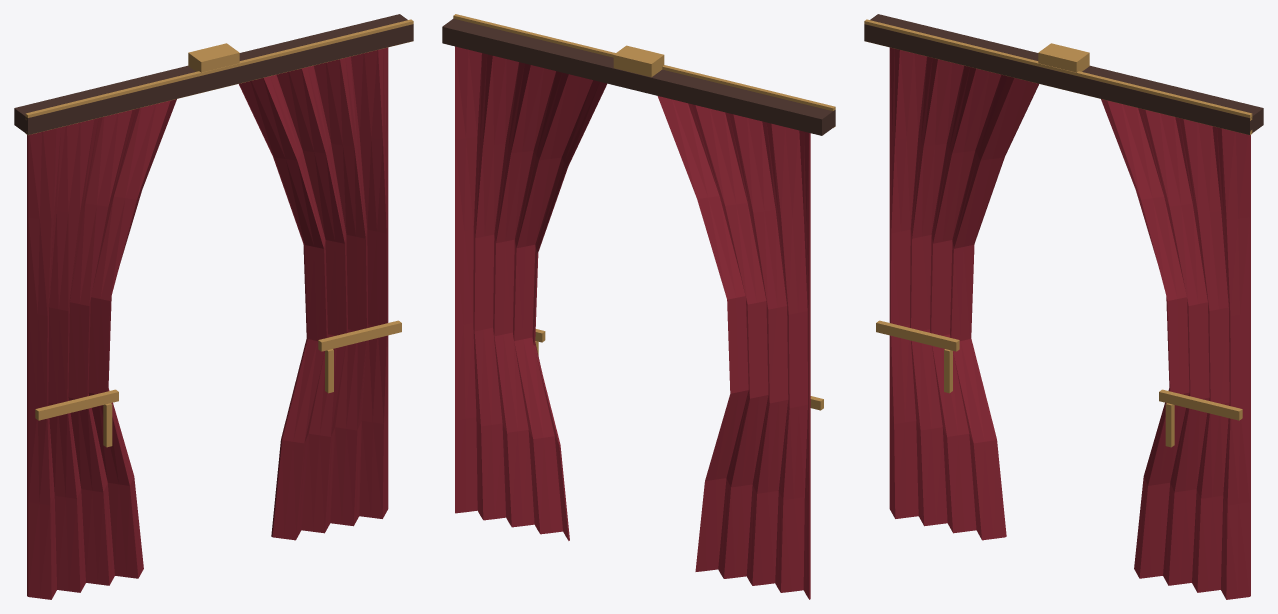
The model's file is Casino_CurtainPair.fbx.
3 views of the same model, side by side, from view 1: azimuth 30°, elevation 25°; view 2: azimuth 150°, elevation 25°; view 3: azimuth 330°, elevation 25° (orthographic).
Visible parts, largest first — view 1: Casino_CurtainPair; view 2: Casino_CurtainPair; view 3: Casino_CurtainPair.
Part boxes in pixels (x1,y1,x2,y2): Casino_CurtainPair: (14,14,413,599); Casino_CurtainPair: (442,14,835,599); Casino_CurtainPair: (864,14,1263,599).
Size of the model in its own units: 240 by 300 by 15.
